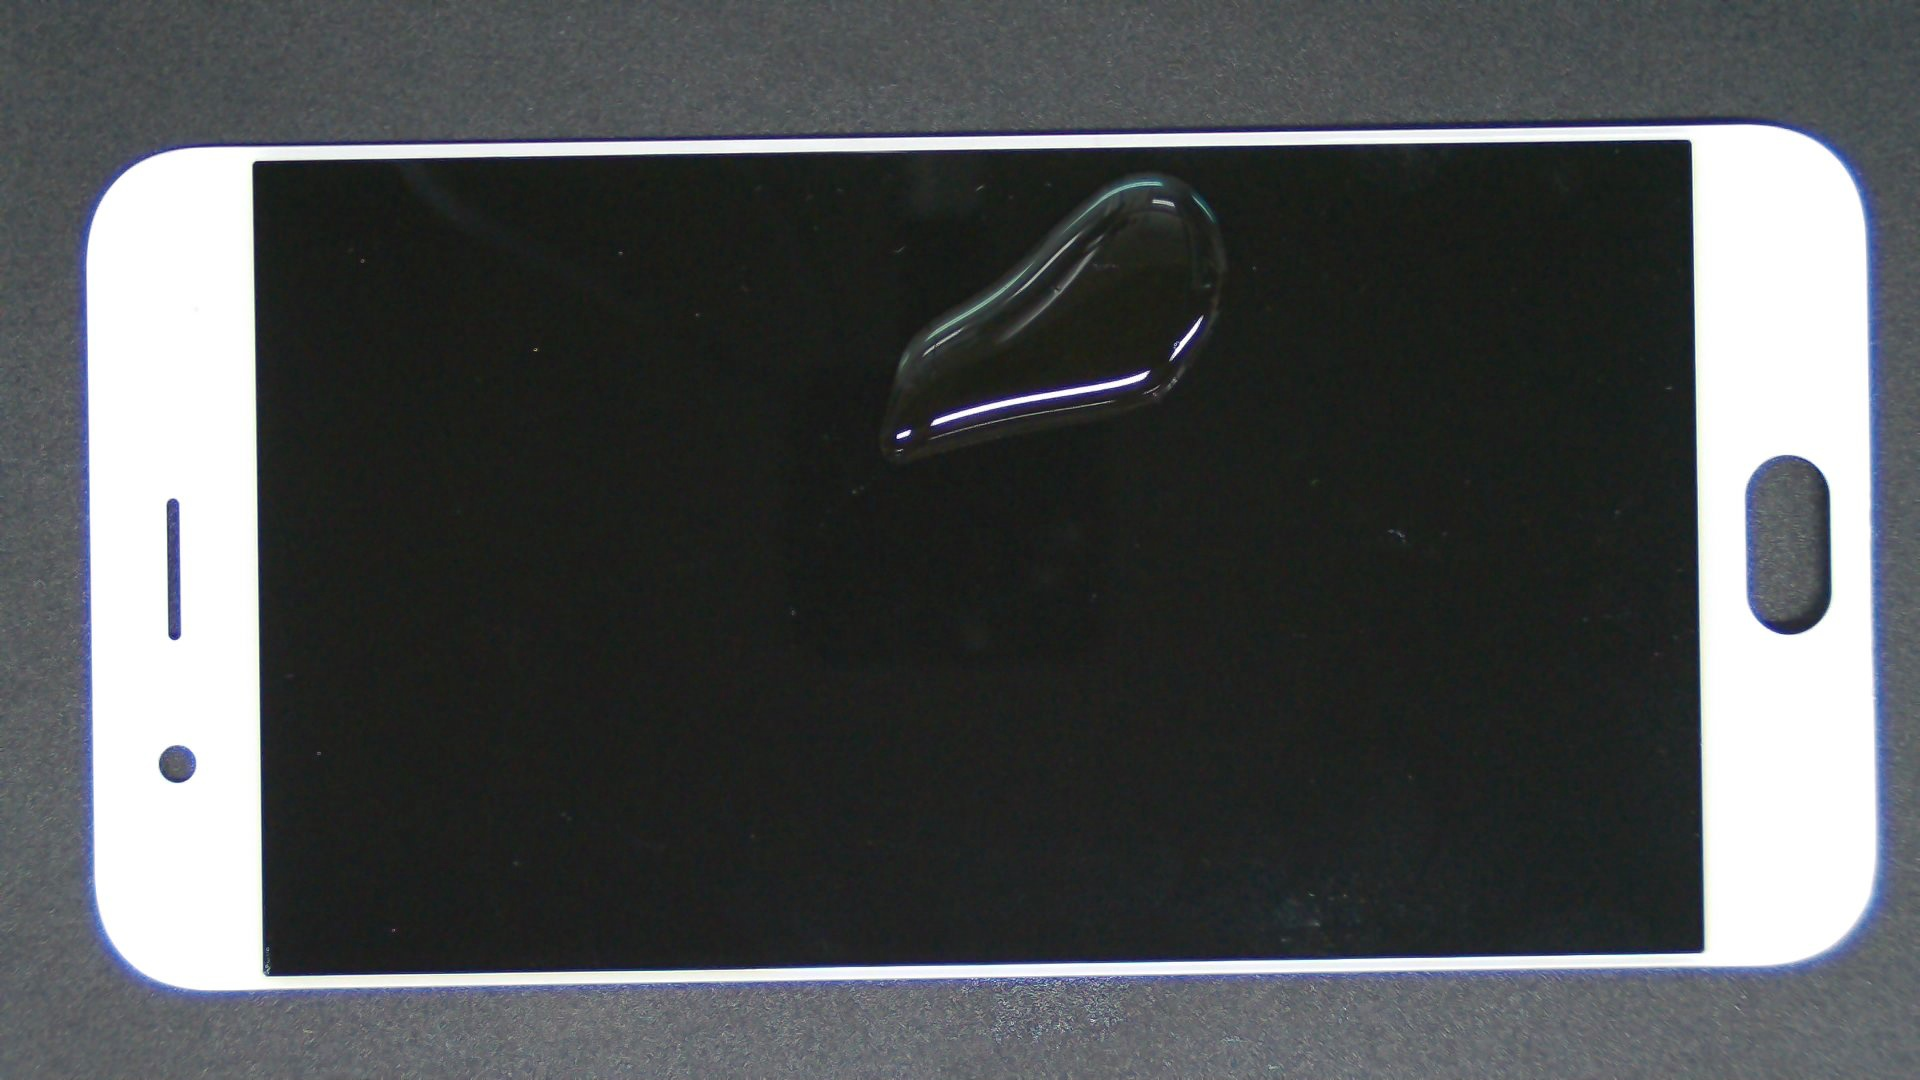oil: (574, 84, 1718, 257)
